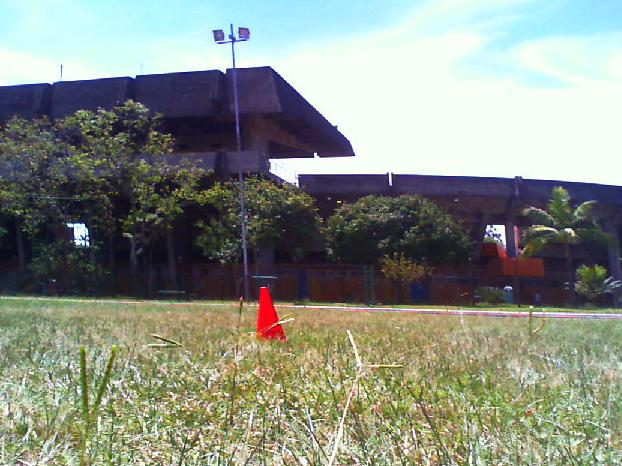0 cone: (256, 288, 286, 340)
